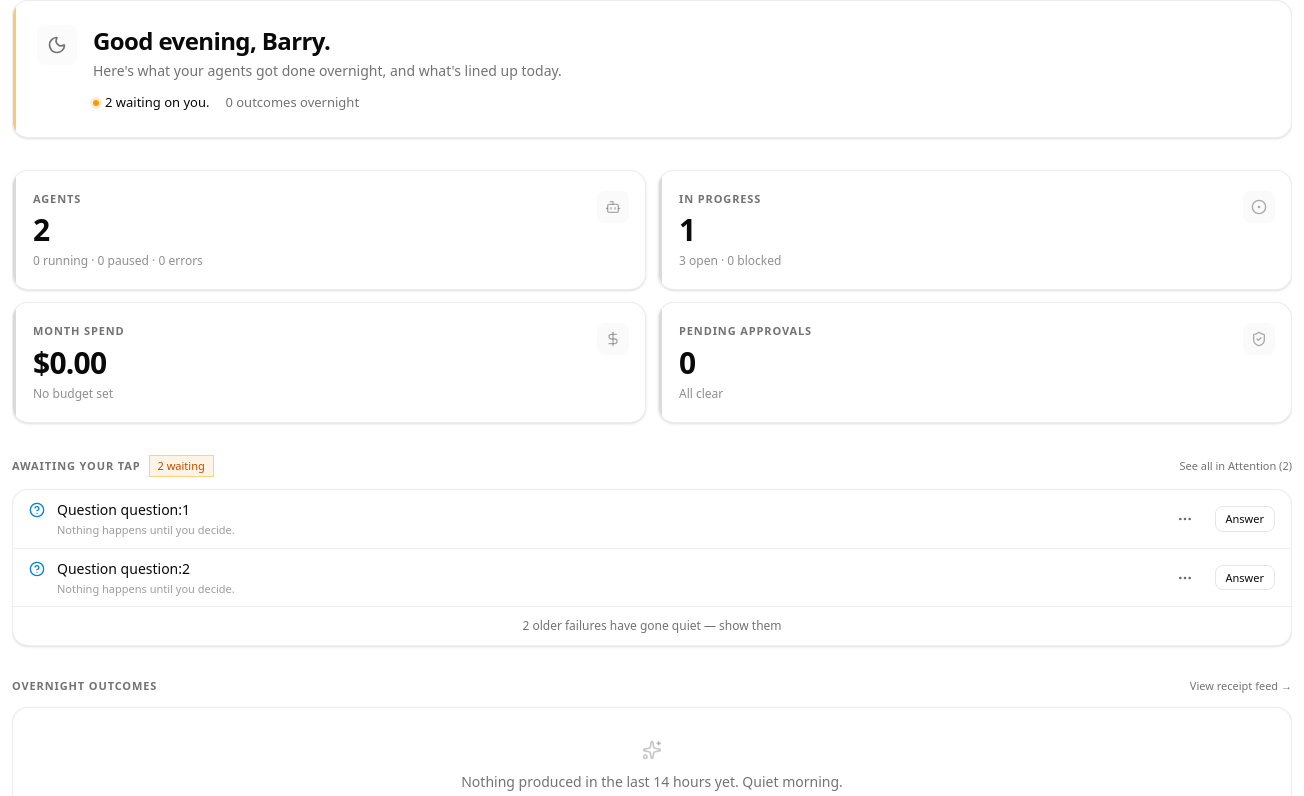
Test: MorningBrief › leaves gone-quiet rows out of the counts while they are shown
Click the button "2 older failures have gone quiet — show them".
click(652, 626)  # box [13,607,1291,645]
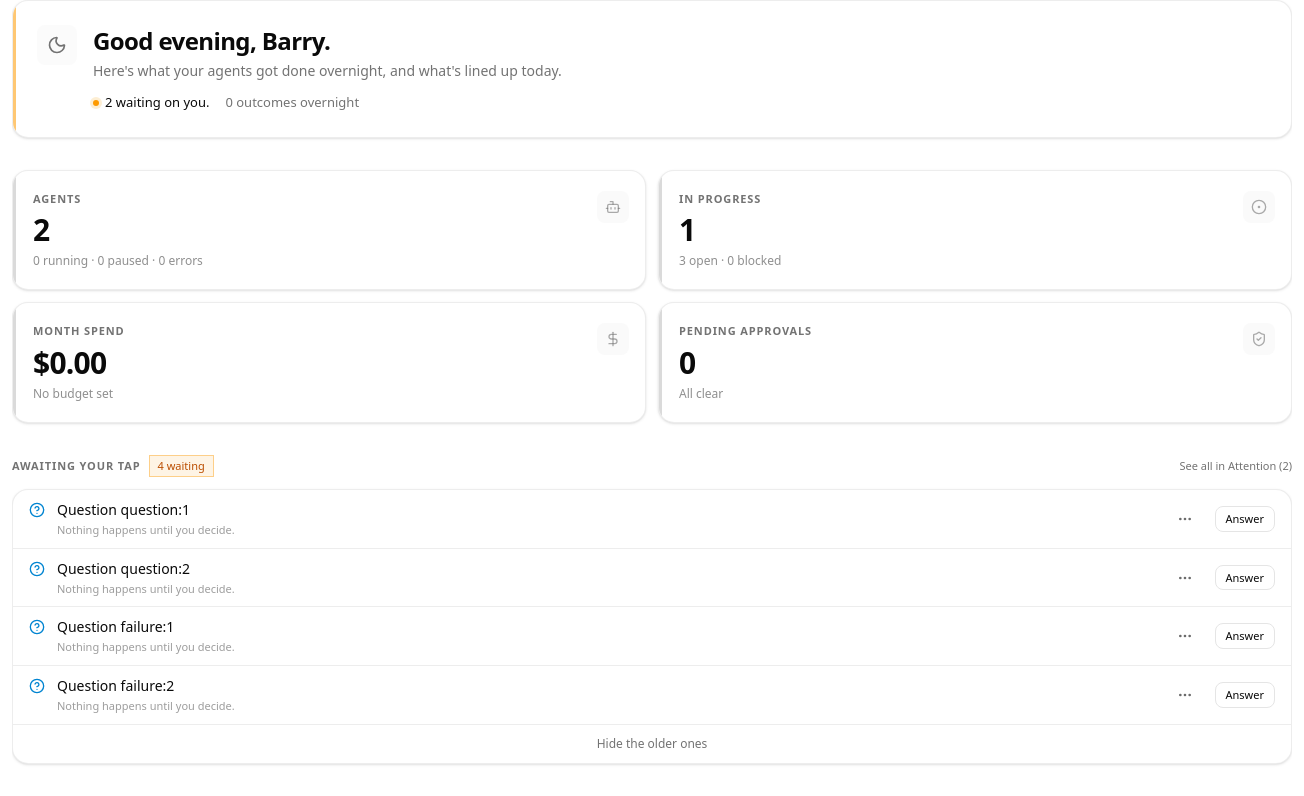
Check: the link "See all in Attention (2)" is shown, box [1180,458,1292,474]
Check: the text "Question failure:1" is shown, box [57,617,174,637]
